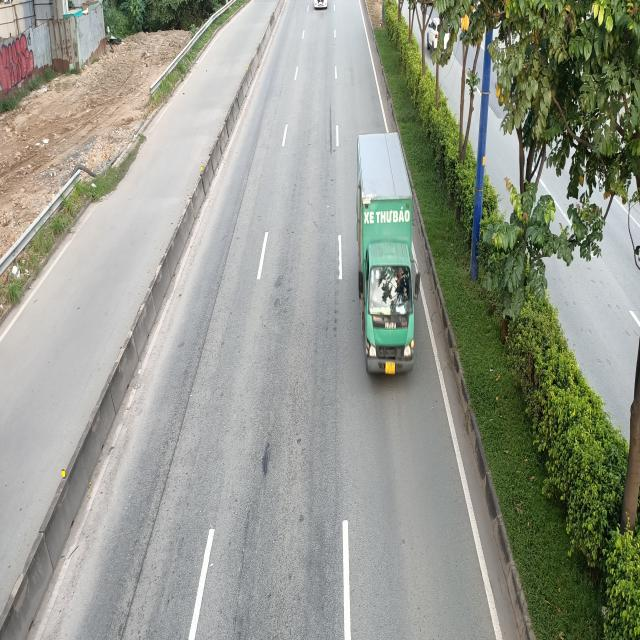truck: (359, 133, 424, 379)
